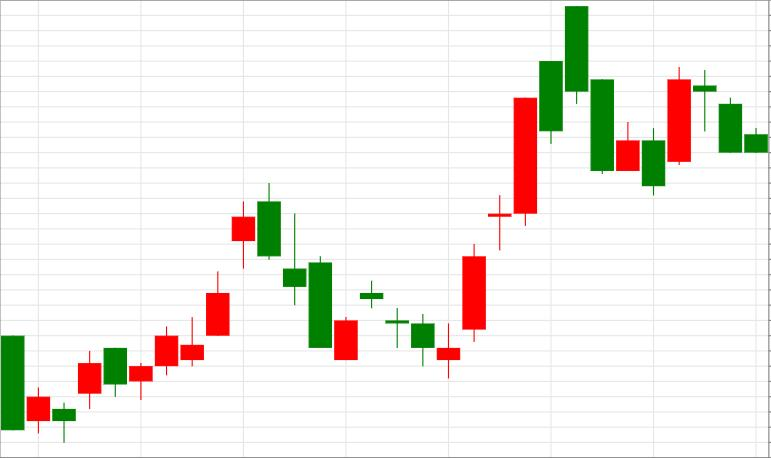morning_star_rise: (258, 183, 485, 378)
